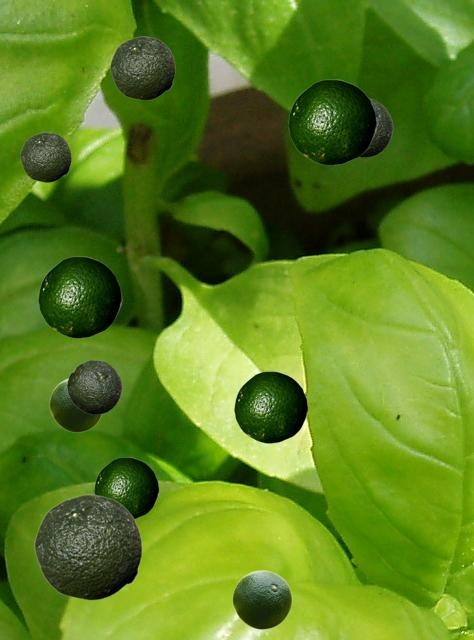calamansi: (34, 494, 141, 599), (288, 79, 376, 164), (38, 256, 121, 337), (234, 371, 307, 442), (110, 36, 174, 99), (94, 457, 158, 519), (232, 570, 291, 628), (49, 378, 103, 431), (67, 360, 121, 413), (20, 132, 70, 181), (361, 98, 392, 156)
